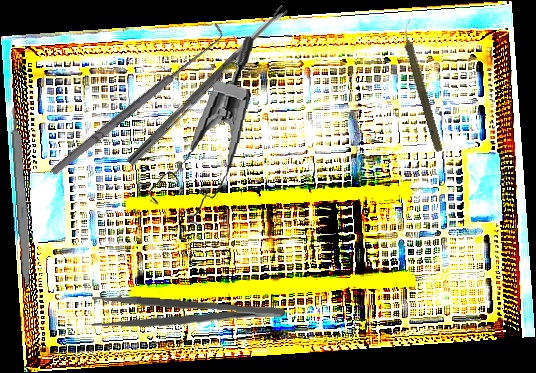Dressing Forceps: (90, 293, 286, 338)
Handpiece: (396, 18, 448, 153)
Hook Surgical: (44, 22, 229, 179)
Scalpel Handle: (9, 104, 35, 292)
Speculum: (146, 28, 256, 231)
Surgical Spoon: (126, 5, 289, 167)
